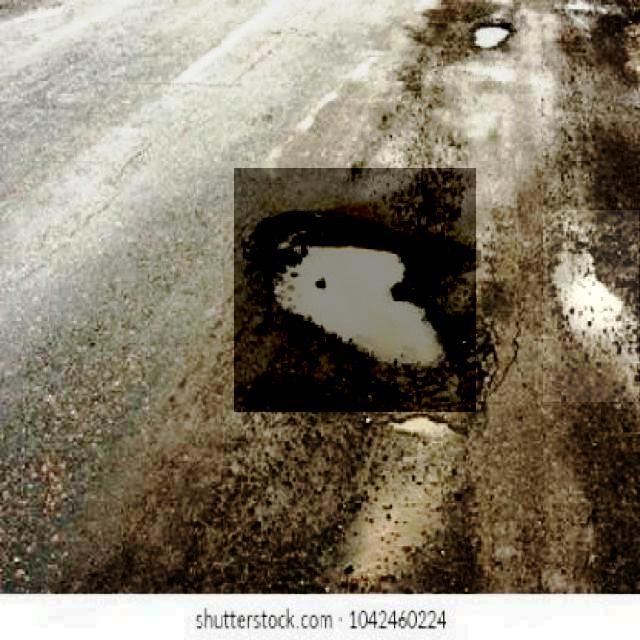pothole: (234, 168, 476, 412), (543, 210, 639, 402), (462, 6, 524, 60)
